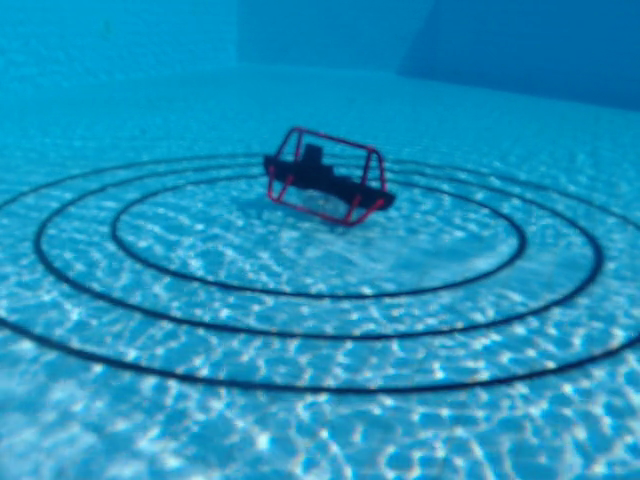submarine: (262, 126, 398, 229)
